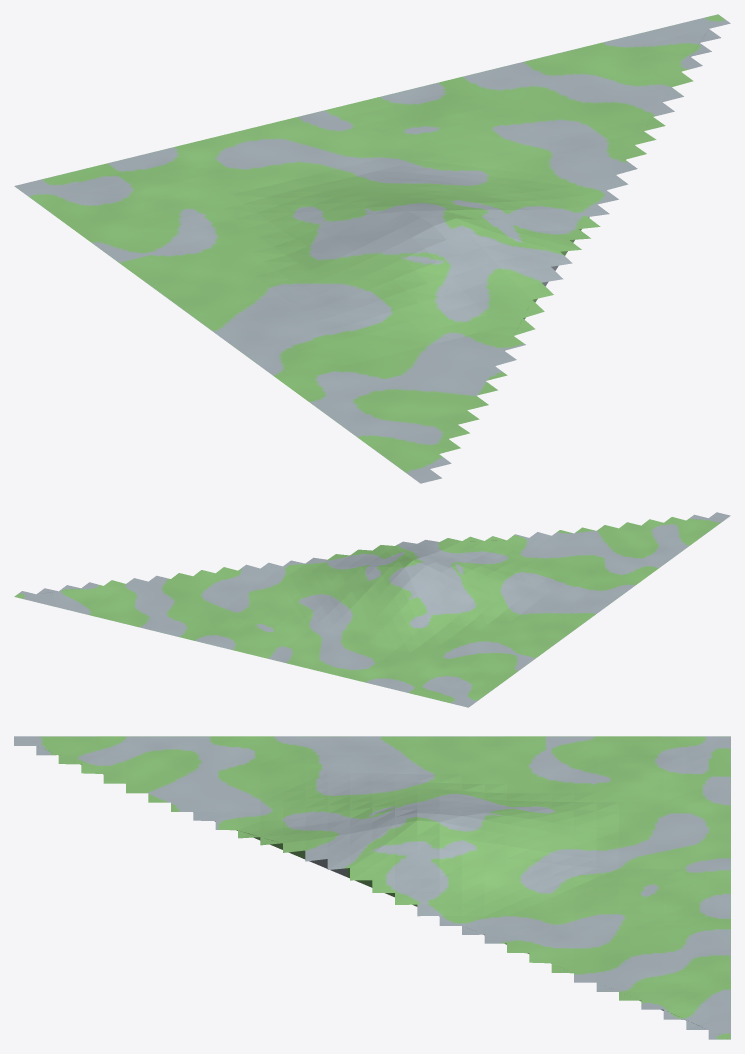
File: Grass_RockyGround_07_SW.obj
The picture shows the model from 3 angles, top to bottom: view 1: azimuth 30°, elevation 25°; view 2: azimuth 150°, elevation 25°; view 3: azimuth 270°, elevation 25°; orthographic projection. The views are drawn at different scales.
Bounding box in the file's own units: 10 × 0.4554 × 10.
Materials: 1 (1 with a texture image).
